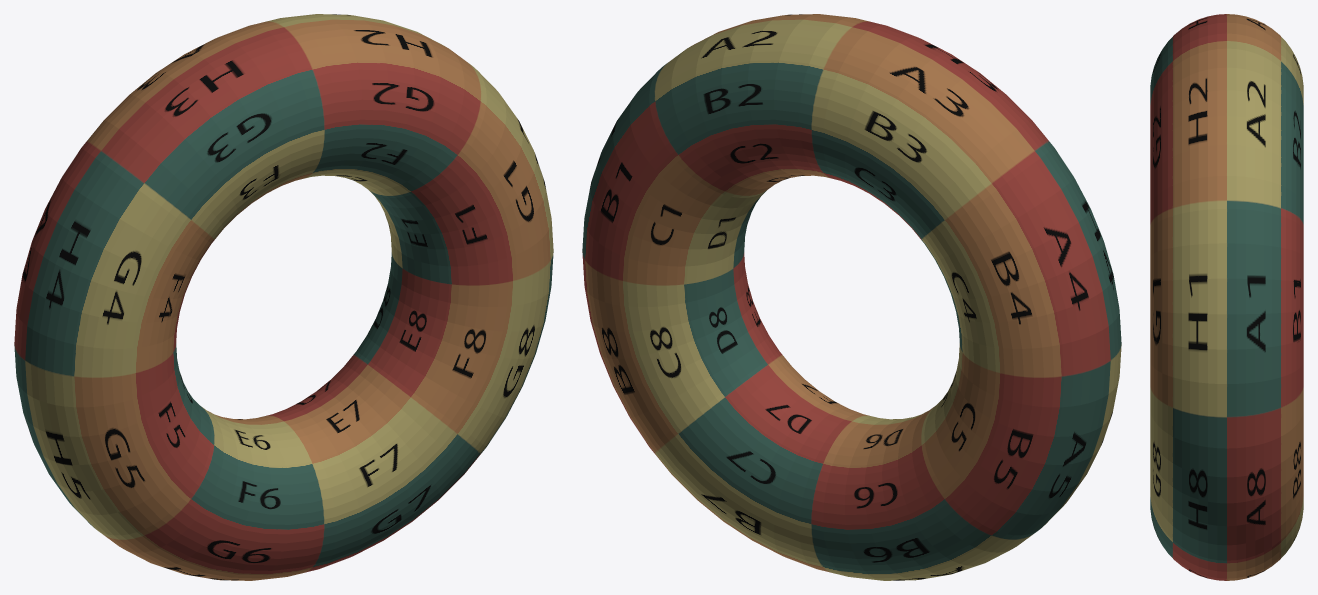
File: texture_torus_R6_r12.glb
3 views of the same model, side by side, from view 1: azimuth 30°, elevation 25°; view 2: azimuth 150°, elevation 25°; view 3: azimuth 270°, elevation 25° (orthographic). The views are drawn at different scales.
Parts seen in each view (by area): view 1: world; view 2: world; view 3: world.
Part boxes in pixels (<box>): world: <box>14,14,553,580</box>; world: <box>582,14,1121,580</box>; world: <box>1150,14,1303,580</box>.
Bounding box in the file's own units: 19.2 × 19.16 × 5.19.
Materials: 1 (1 with a texture image).
